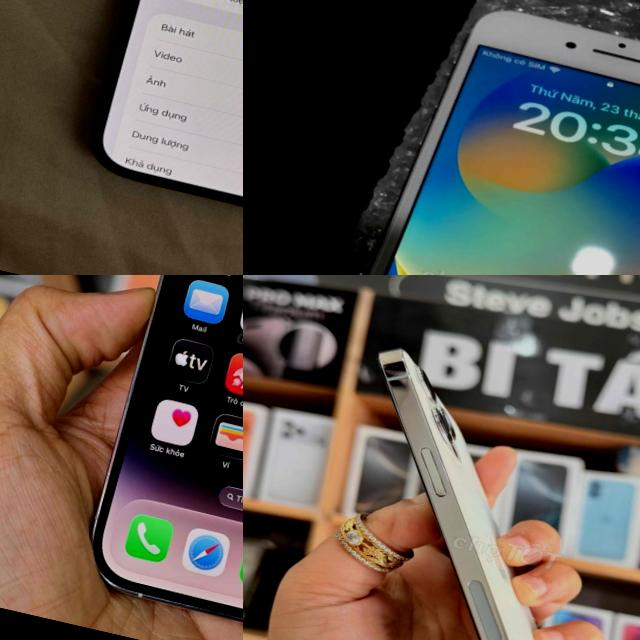gen_12_13: (288, 332, 640, 640), (78, 0, 243, 251)
gen_14: (71, 275, 243, 640)
gen_7_8: (284, 0, 640, 275)
